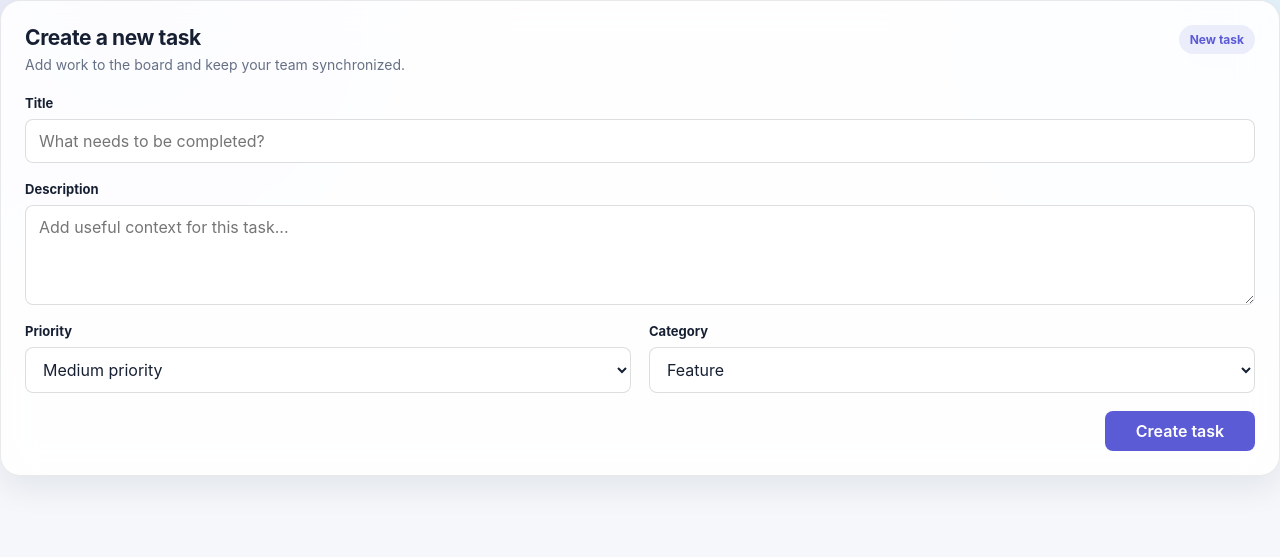
Test: CreateTaskForm › shows an error when task creation fails
Step 1. Type "Failed task" into the field labelled "Title" → x=640, y=141, box [25,119,1255,163]
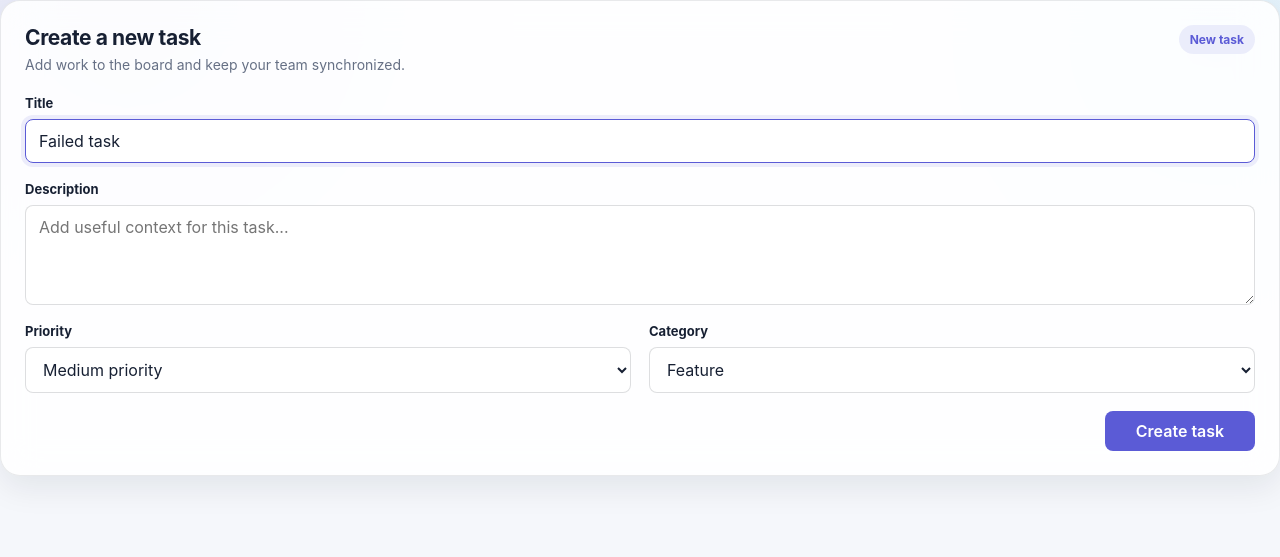
Step 2. Click the button "Create task" → x=1180, y=431, box [1105,411,1255,451]
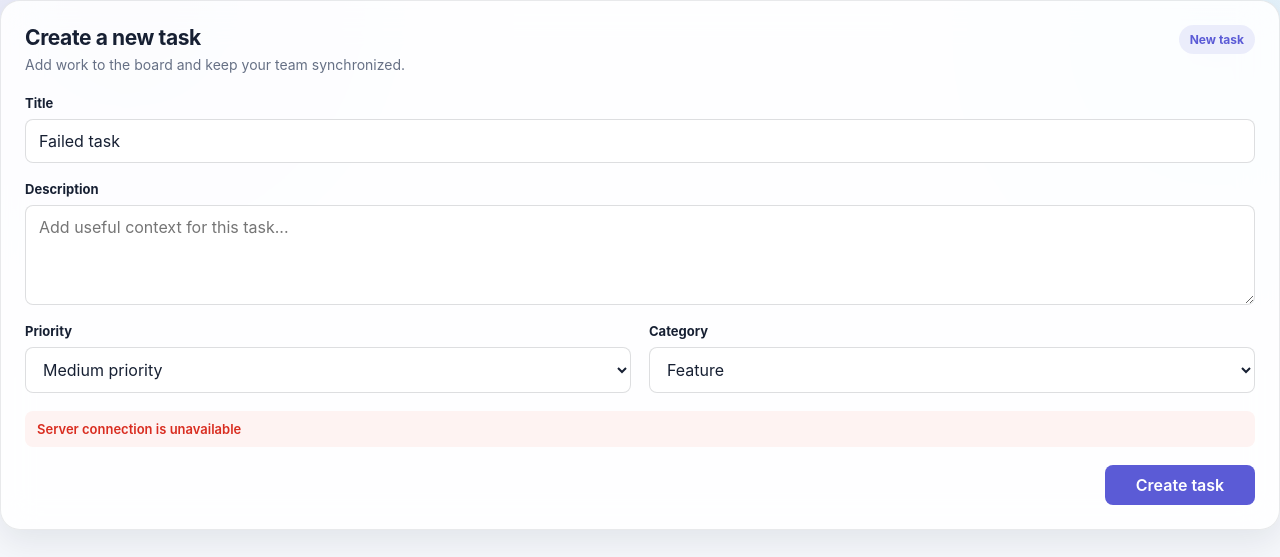
Result: the text "Server connection is unavailable" is shown at [25,411,1255,447]
